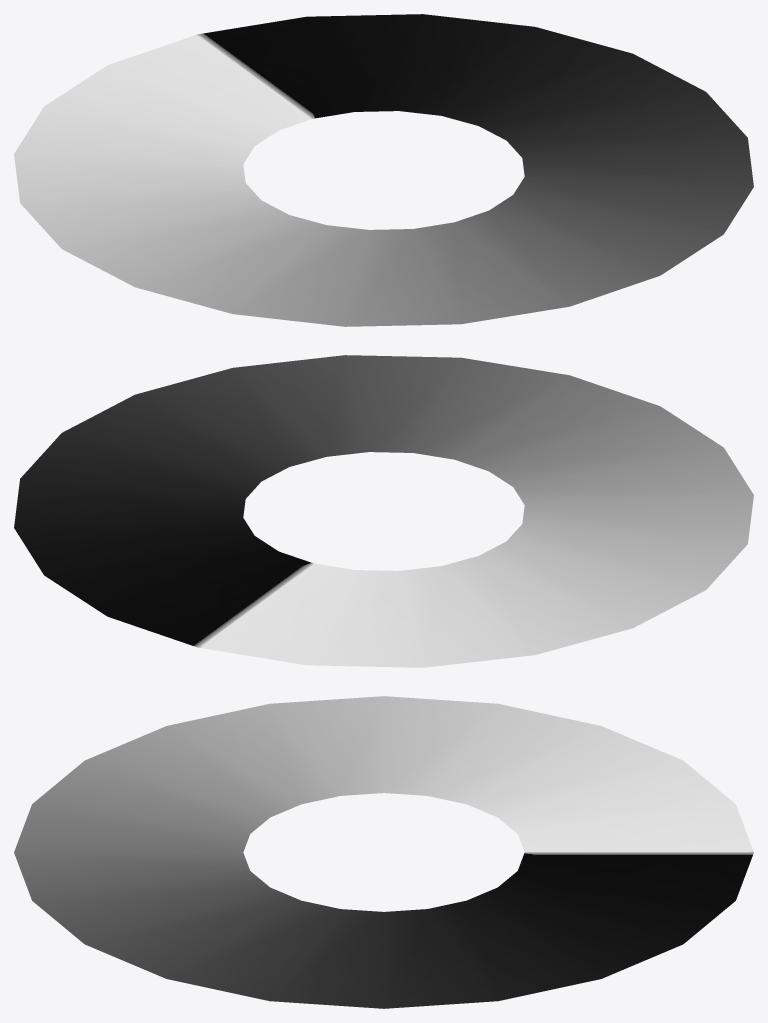
File: fxmSwooshSlash.fbx
3 views of the same model, one above another, from view 1: azimuth 30°, elevation 25°; view 2: azimuth 150°, elevation 25°; view 3: azimuth 270°, elevation 25° (orthographic).
Parts seen in each view (by area): view 1: SwooshSlash; view 2: SwooshSlash; view 3: SwooshSlash.
Part boxes in pixels (box(x1,y1,x2,y2)): SwooshSlash: box(14, 14, 753, 326); SwooshSlash: box(14, 355, 753, 667); SwooshSlash: box(14, 696, 753, 1008).
Size of the model in its own units: 15.17 by 0 by 15.17.
1 material, 1 textured.
